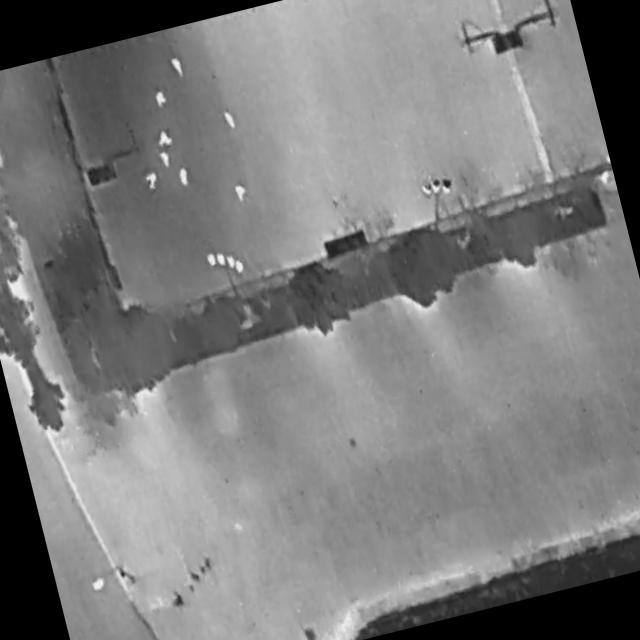person: (221, 109, 238, 132), (171, 55, 186, 80), (177, 165, 192, 187), (158, 129, 174, 148), (234, 183, 249, 203), (146, 173, 161, 191), (155, 90, 169, 109), (160, 150, 173, 169)
